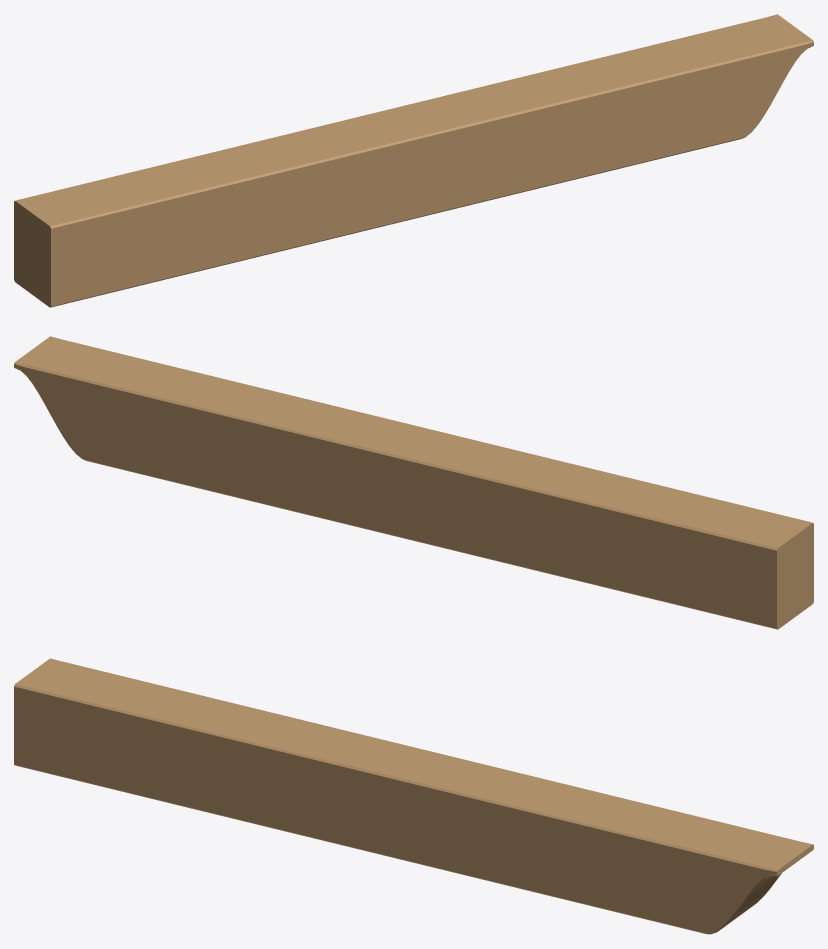
File: ER_ANG_ILLUSTRATION_C01_candidate.glb
3 views of the same model, one above another, from view 1: azimuth 30°, elevation 25°; view 2: azimuth 150°, elevation 25°; view 3: azimuth 330°, elevation 25° (orthographic).
Parts seen in each view (by area): view 1: ER_ANG_ILLUSTRATION_C01_candidate; view 2: ER_ANG_ILLUSTRATION_C01_candidate; view 3: ER_ANG_ILLUSTRATION_C01_candidate.
Boxes of the visible parts, <box> form: ER_ANG_ILLUSTRATION_C01_candidate: <box>14,14,813,307</box>; ER_ANG_ILLUSTRATION_C01_candidate: <box>14,336,813,629</box>; ER_ANG_ILLUSTRATION_C01_candidate: <box>14,658,813,934</box>.
Bounding box in the file's own units: 1.83 × 0.187 × 0.154.
